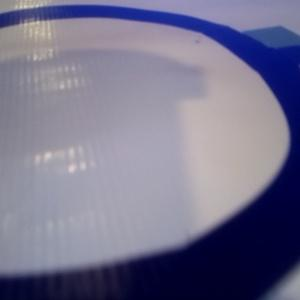top_right: (243, 25, 300, 62)
